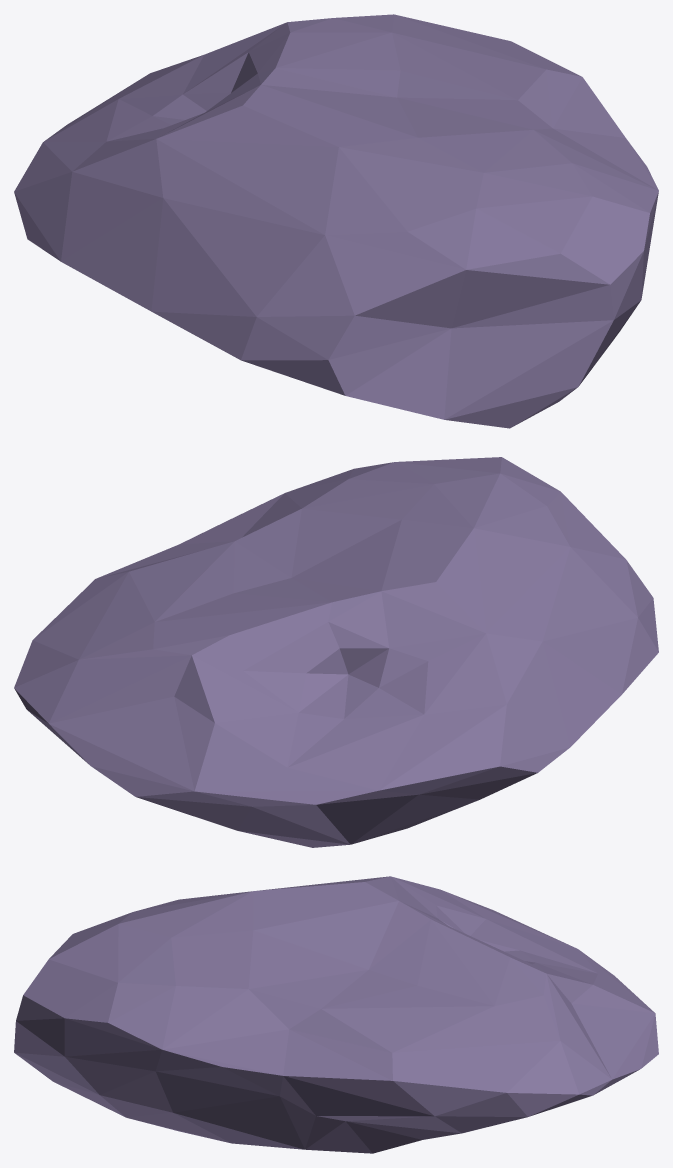
File: Stoun3.fbx
The picture shows the model from 3 angles, top to bottom: view 1: azimuth 30°, elevation 25°; view 2: azimuth 150°, elevation 25°; view 3: azimuth 270°, elevation 25°; orthographic projection. The views are drawn at different scales.
Visible parts, largest first — view 1: Stoun3; view 2: Stoun3; view 3: Stoun3.
Boxes of the visible parts, left/top/right/bottom form: Stoun3: left=14, top=14, right=658, bottom=428; Stoun3: left=14, top=457, right=658, bottom=847; Stoun3: left=14, top=876, right=658, bottom=1153.
Bounding box in the file's own units: 84.97 × 38.5 × 112.
